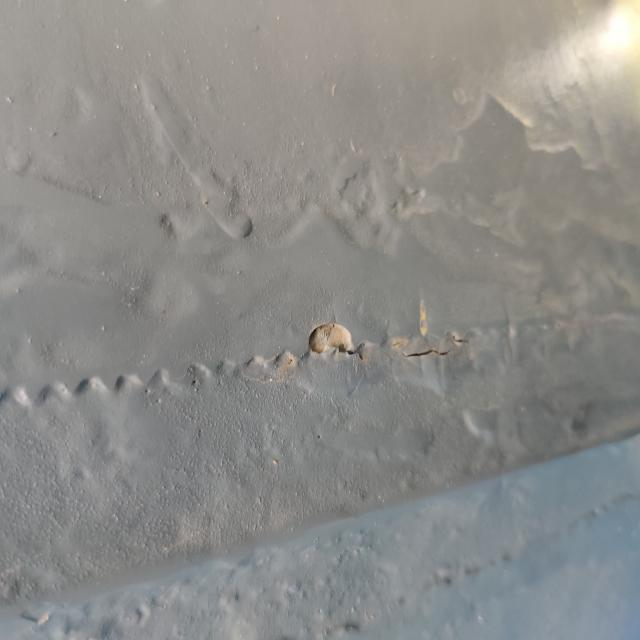crack: (279, 294, 476, 392)
